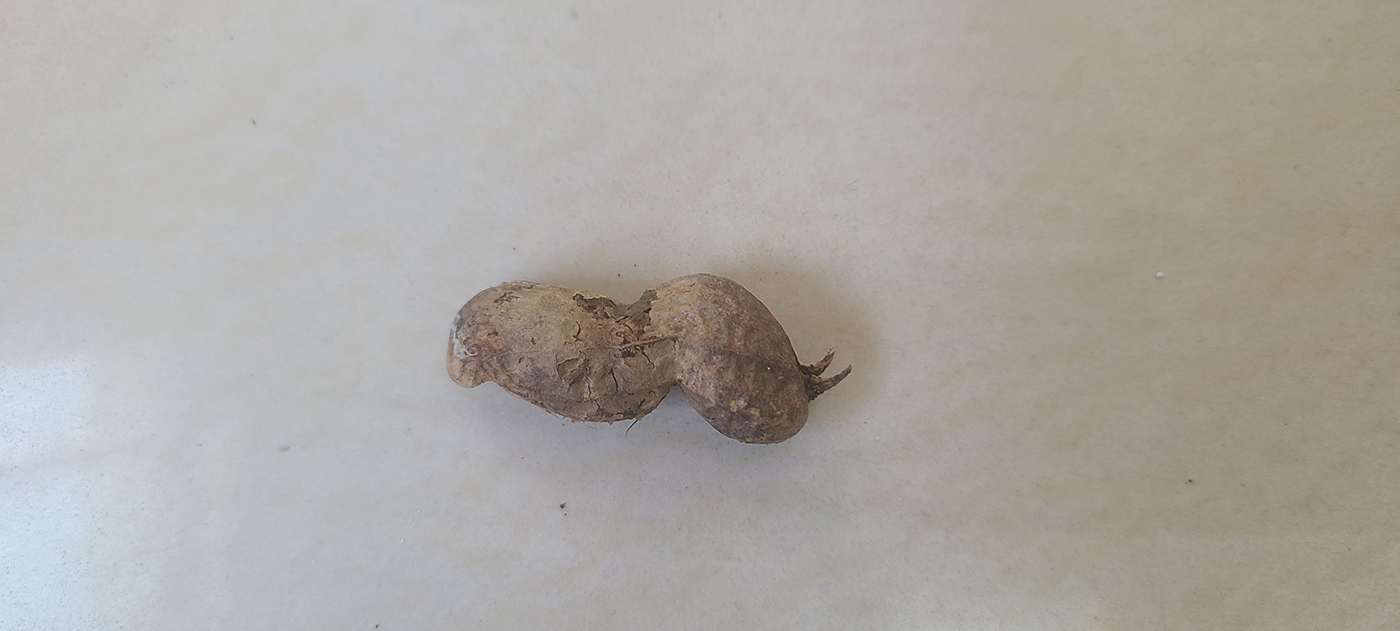l: (446, 273, 811, 444)
